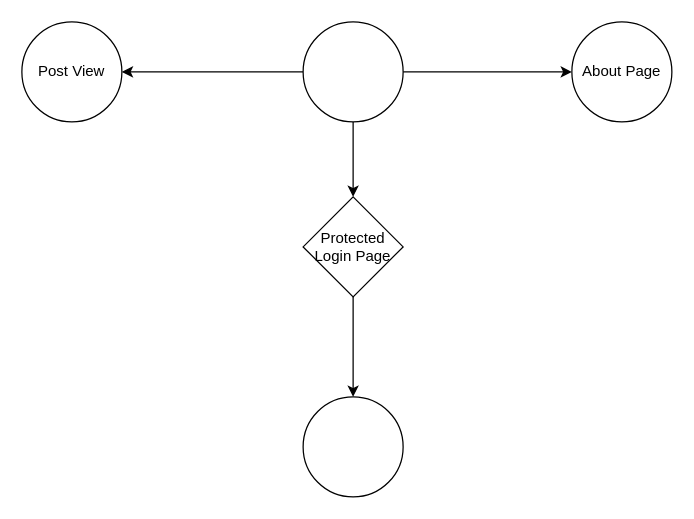
The diagram is 694 pixels wide and 519 high, and some of its shapes have lost their labels. The shapes that lost their labels are listed below. From the top down, each one's centre as x and y in pixels, then its label:
point 352,71: Index
point 352,446: Owner Panel
